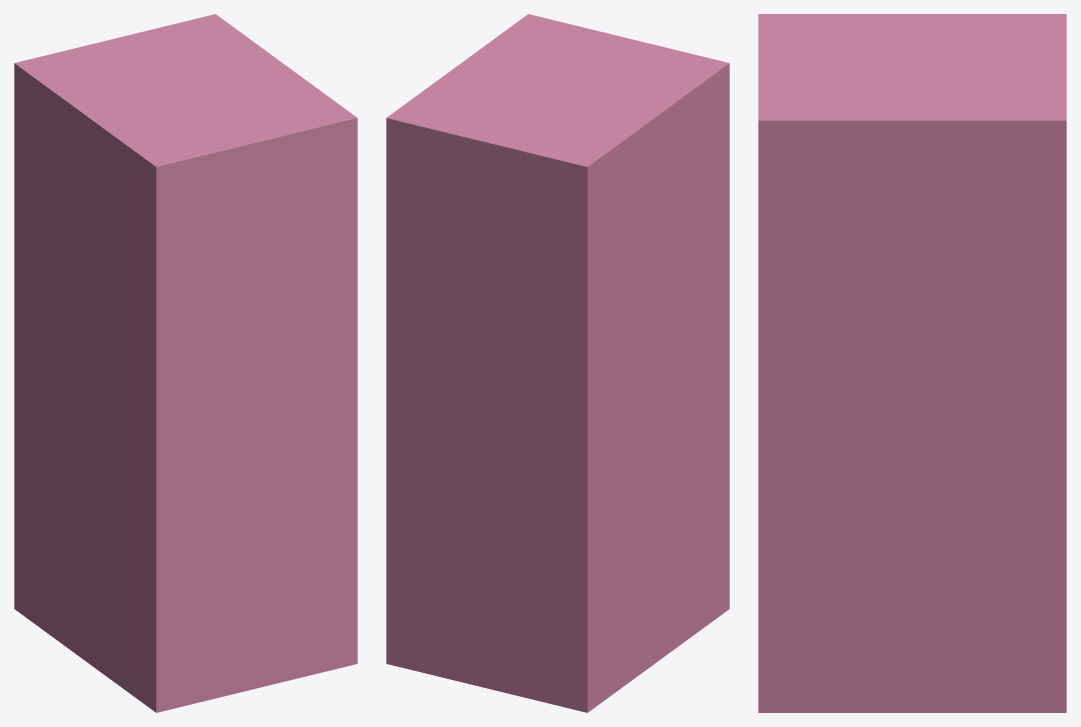
The model's file is tree_oak_forest_b.dae.
3 views of the same model, side by side, from view 1: azimuth 30°, elevation 25°; view 2: azimuth 150°, elevation 25°; view 3: azimuth 270°, elevation 25° (orthographic). The views are drawn at different scales.
Visible parts, largest first — view 1: Untitled; view 2: Untitled; view 3: Untitled.
Boxes of the visible parts, <box> form: Untitled: <box>14,14,357,712</box>; Untitled: <box>386,14,729,712</box>; Untitled: <box>758,14,1066,712</box>.
Size of the model in its own units: 6.18 by 7.56 by 16.02.
